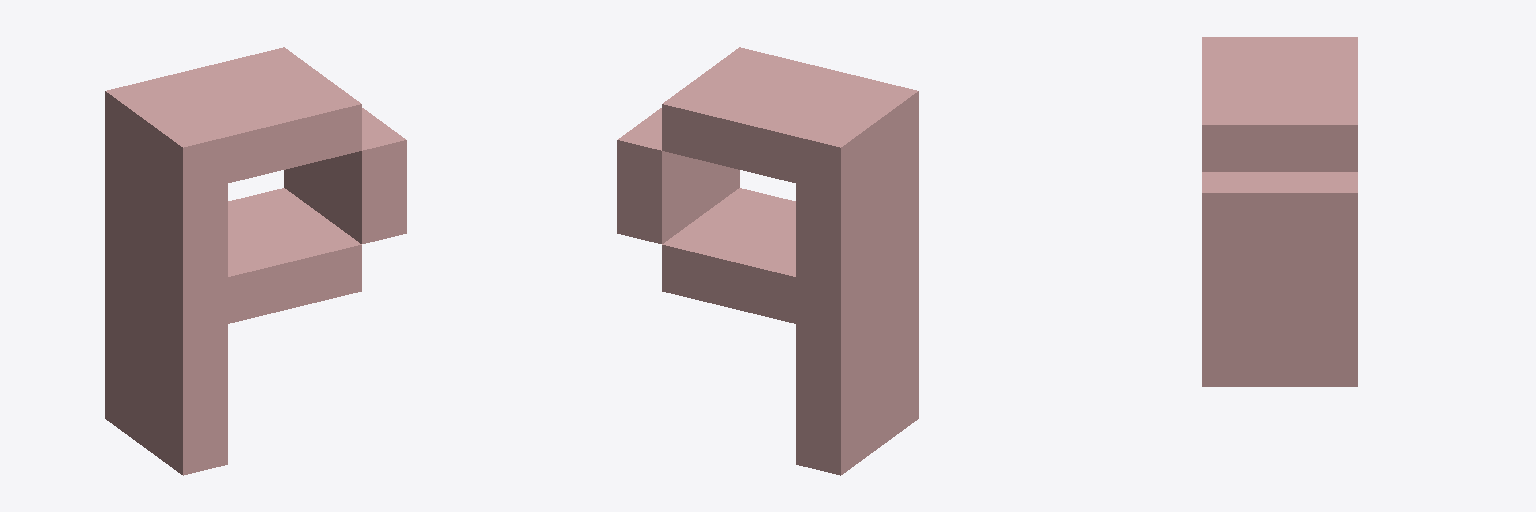
The picture shows the model from 3 angles: view 1: azimuth 30°, elevation 25°; view 2: azimuth 150°, elevation 25°; view 3: azimuth 270°, elevation 25°; orthographic projection.
Size of the model in its own units: 5 by 7 by 3.
1 materials, 1 textured.